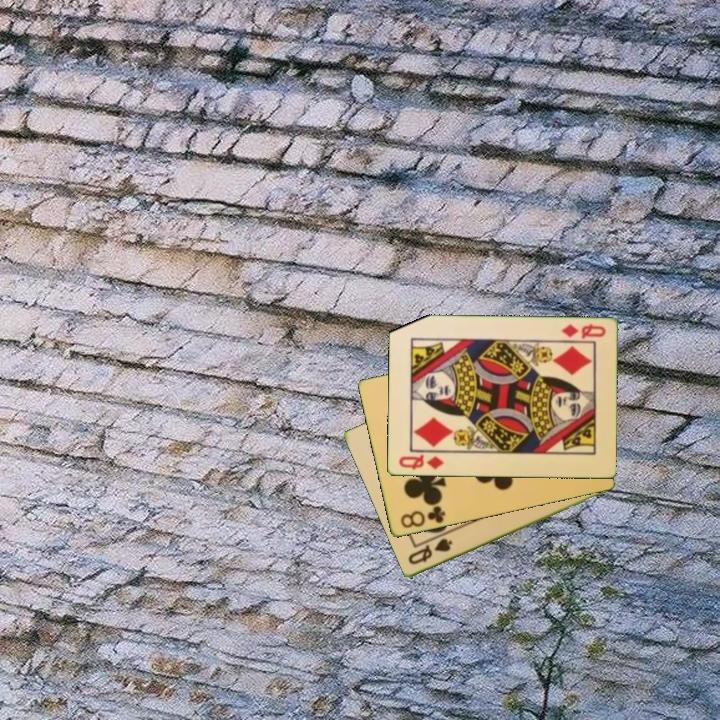8c: (397, 503, 448, 531)
Qd: (395, 452, 447, 473), (557, 321, 608, 342)
Qs: (404, 535, 455, 568)
